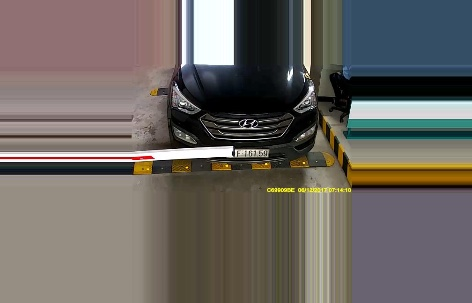plate: (230, 148, 269, 160)
